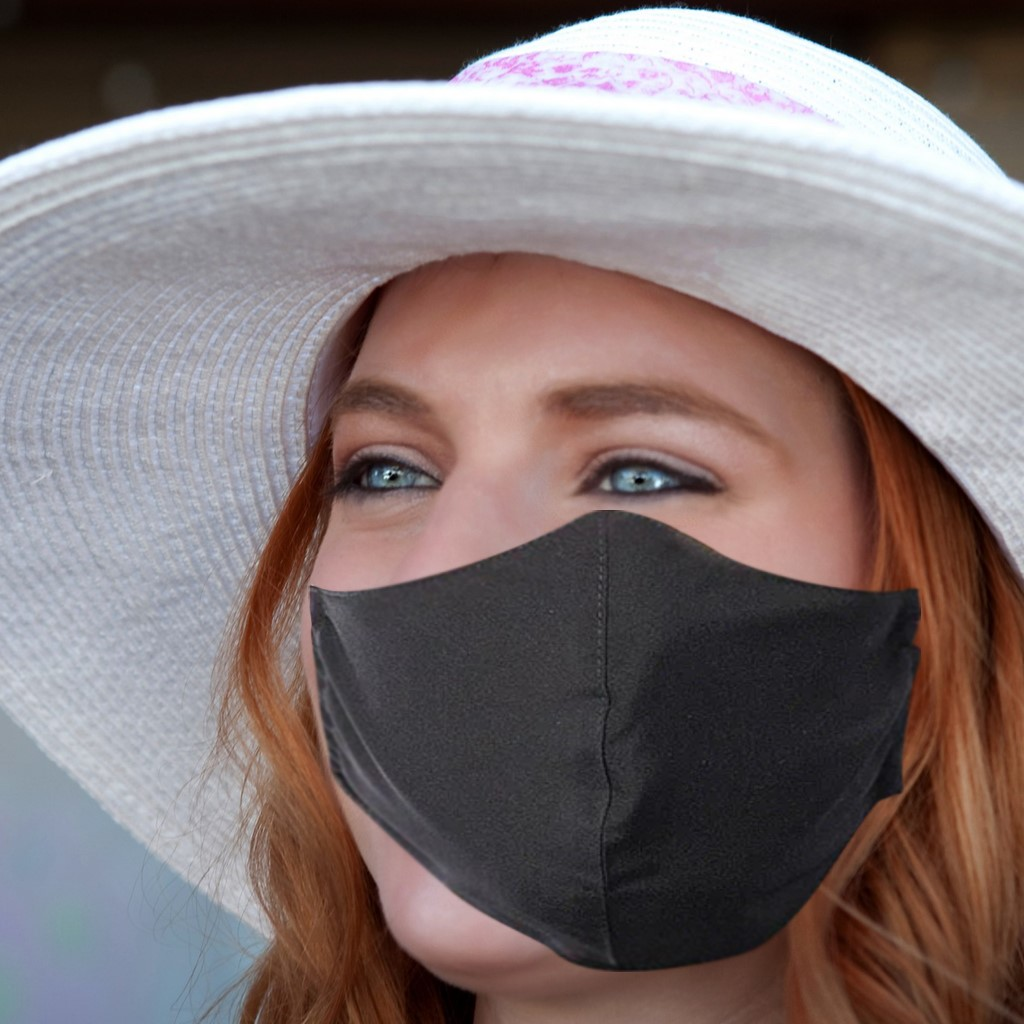con_mascara: (298, 213, 870, 972)
